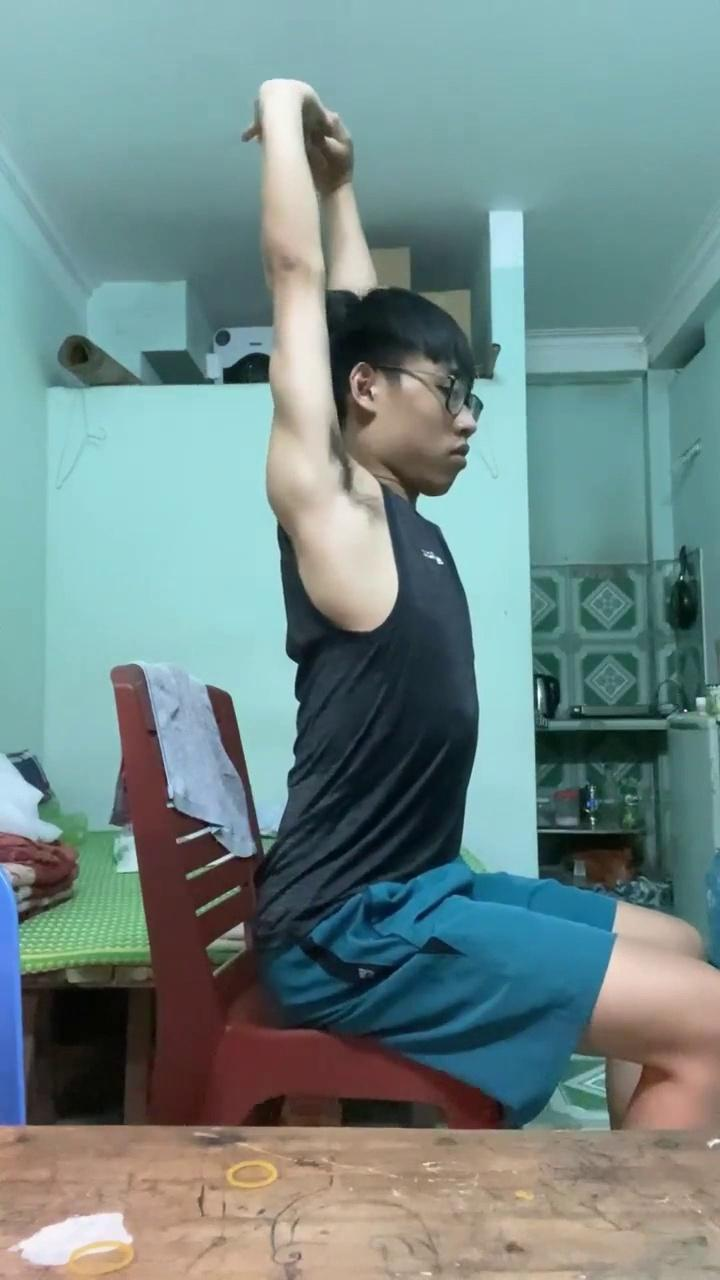GoodPosture: (243, 79, 719, 1130)
